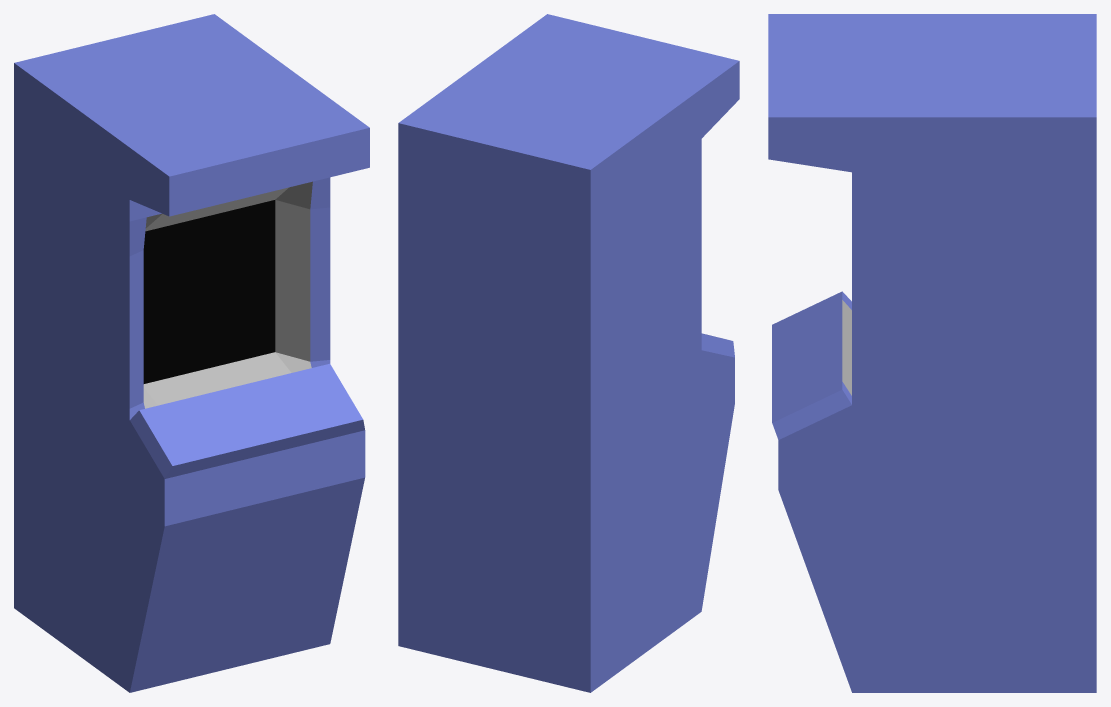
File: arcade.glb
3 renders of one model, left to right at view 1: azimuth 30°, elevation 25°; view 2: azimuth 150°, elevation 25°; view 3: azimuth 270°, elevation 25°, orthographic. The views are drawn at different scales.
Parts seen in each view (by area): view 1: Cube; view 2: Cube; view 3: Cube.
Part boxes in pixels (x1=…): Cube: x1=14, y1=14, x2=369, y2=692; Cube: x1=398, y1=14, x2=739, y2=692; Cube: x1=768, y1=14, x2=1096, y2=692.
Size of the model in its own units: 7.6 by 19.77 by 10.21.
